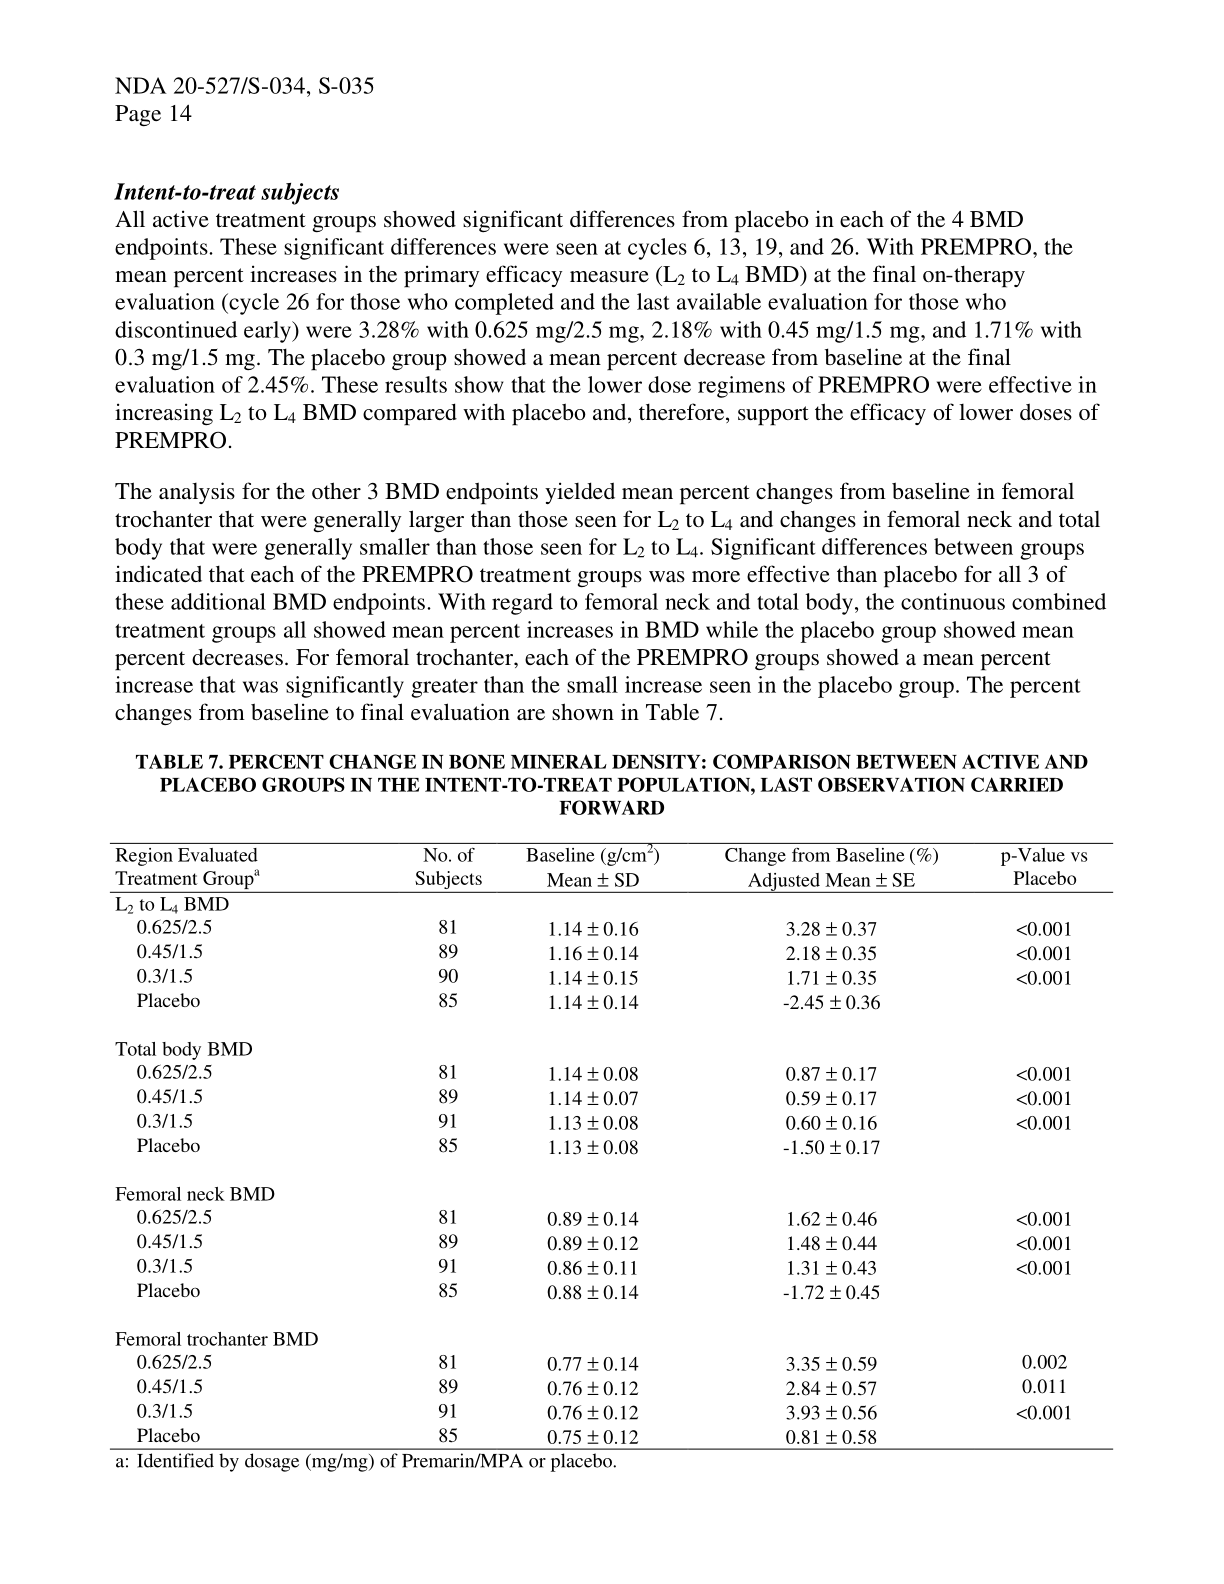partial_lined: (108, 841, 1113, 1452)
